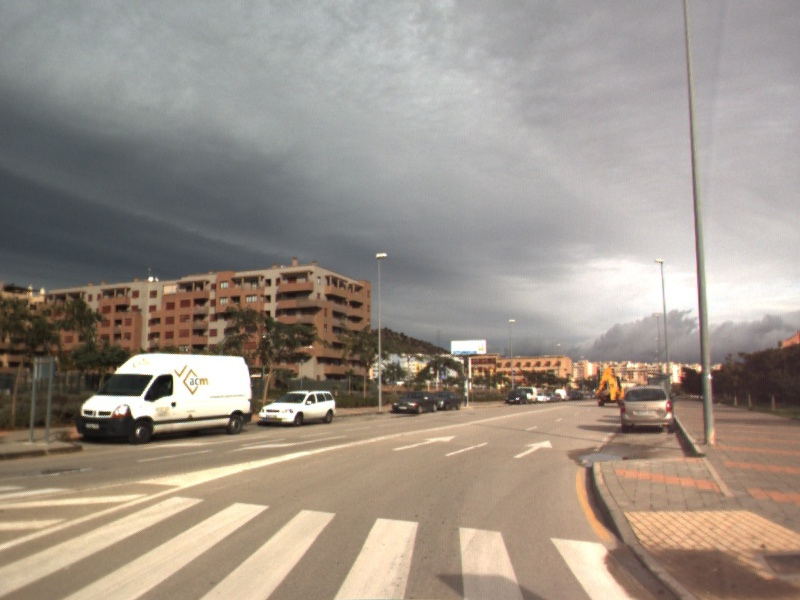STRAIGHT: (390, 434, 458, 452), (512, 438, 554, 460)
